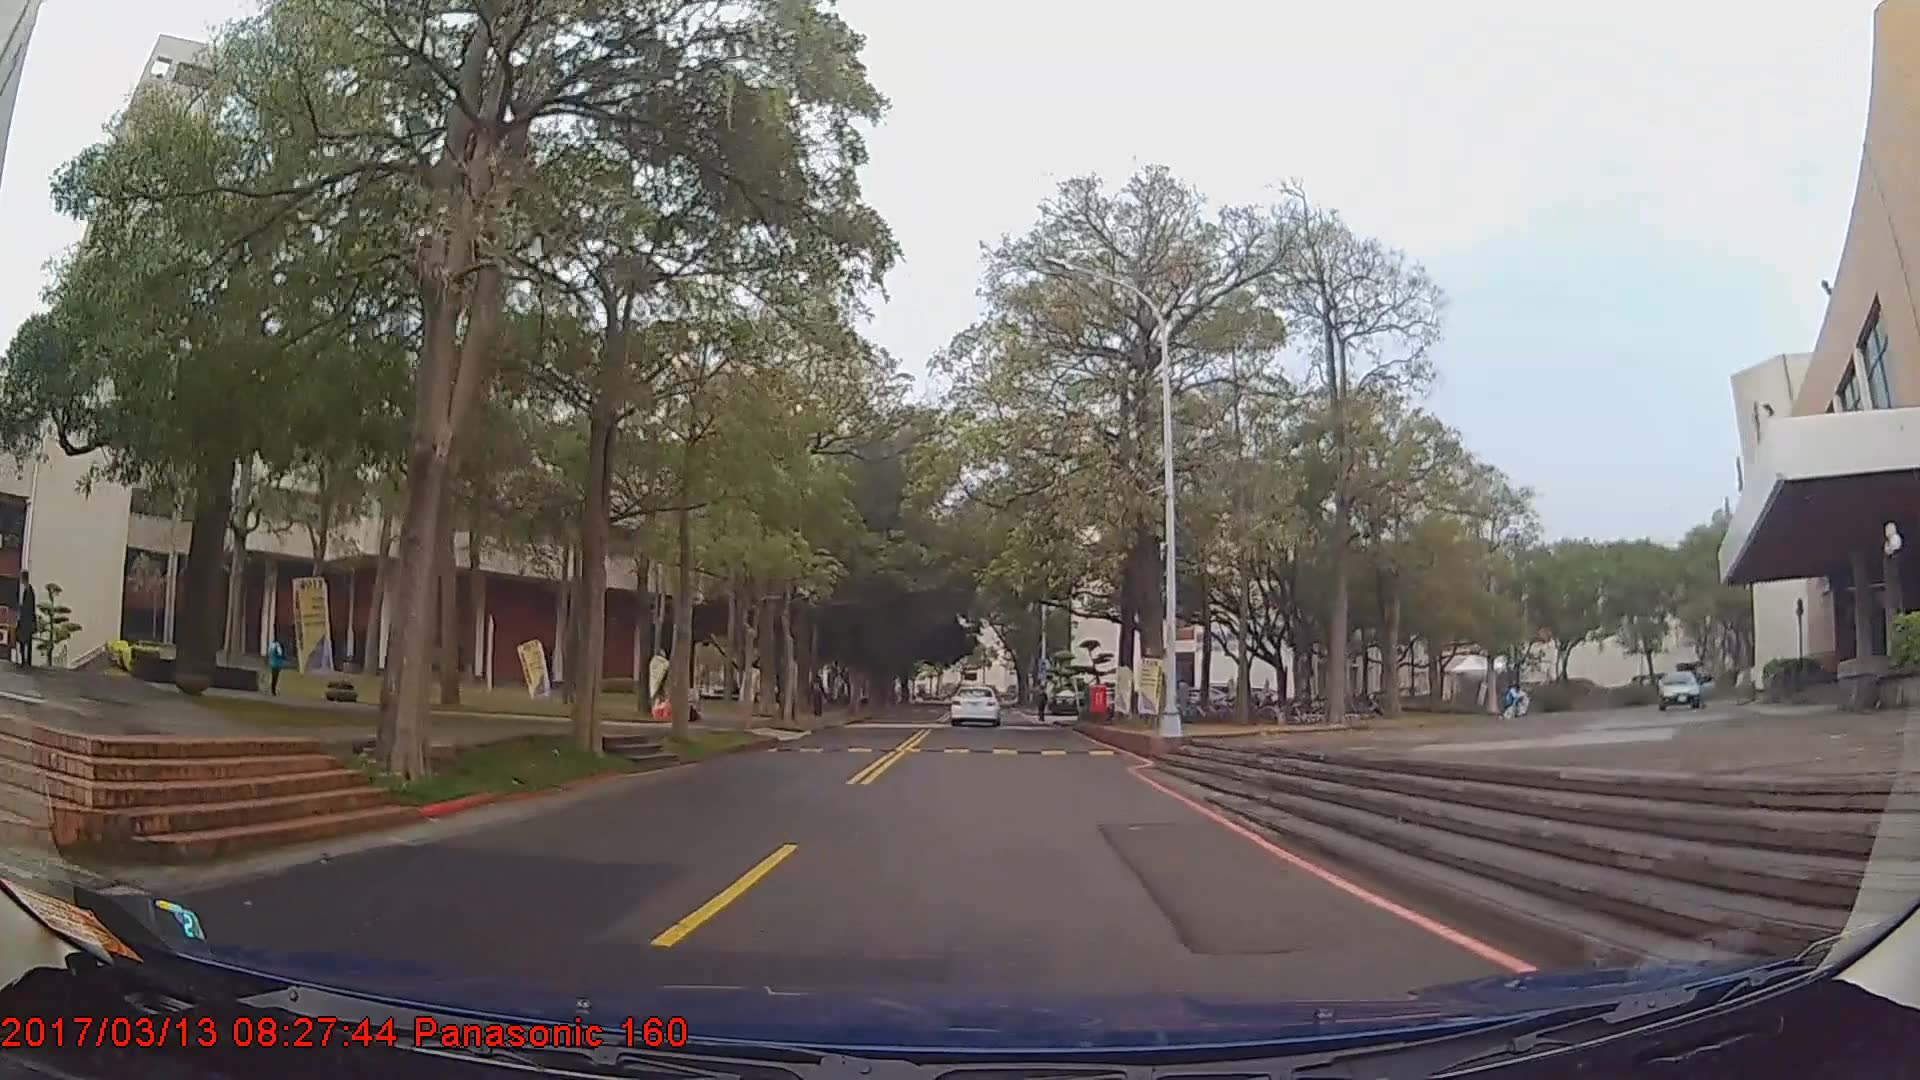pedestrian: (10, 569, 40, 672), (268, 635, 289, 694)
vehicle: (1653, 665, 1717, 710), (948, 682, 1002, 728)
